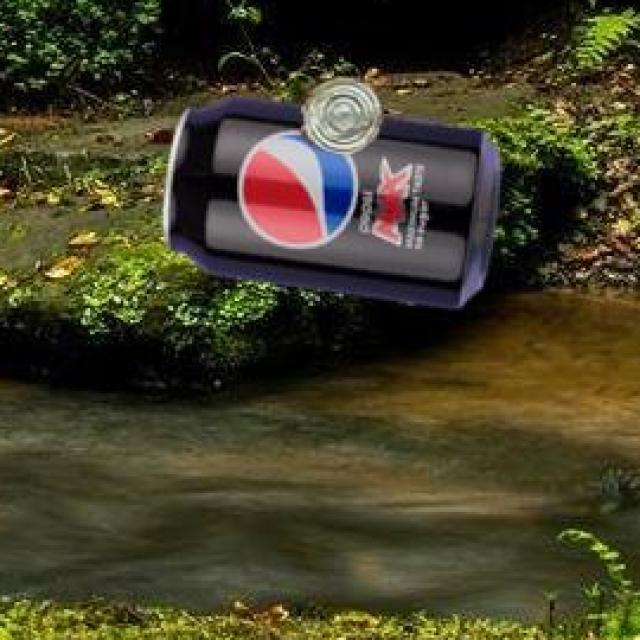logam: (160, 94, 497, 305), (297, 75, 378, 151)
